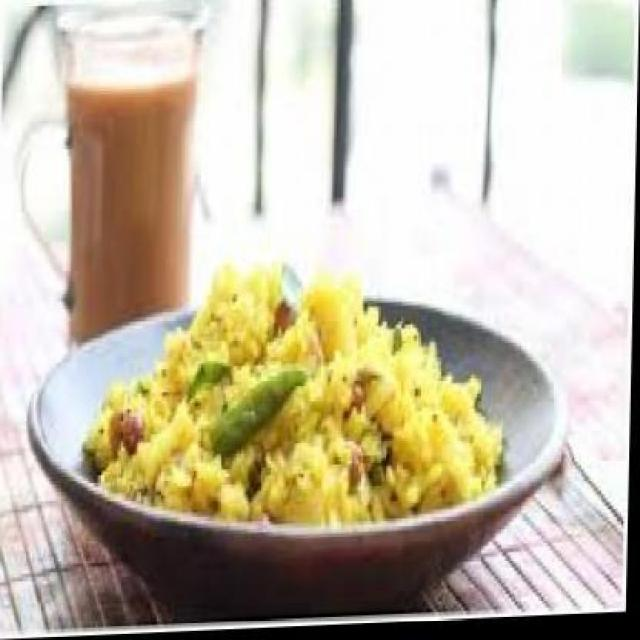poha: (83, 258, 508, 540)
